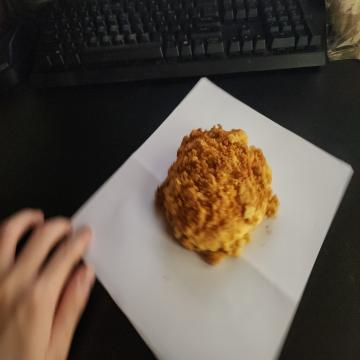soboru_bread: (151, 124, 279, 268)
